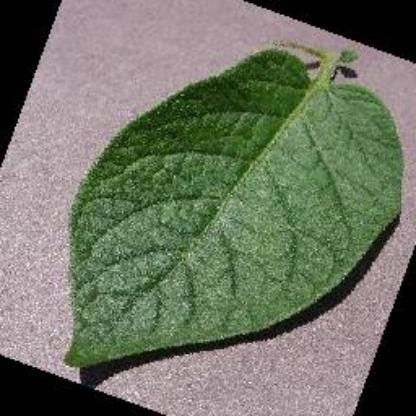Healthy-plant: (34, 30, 414, 393)
